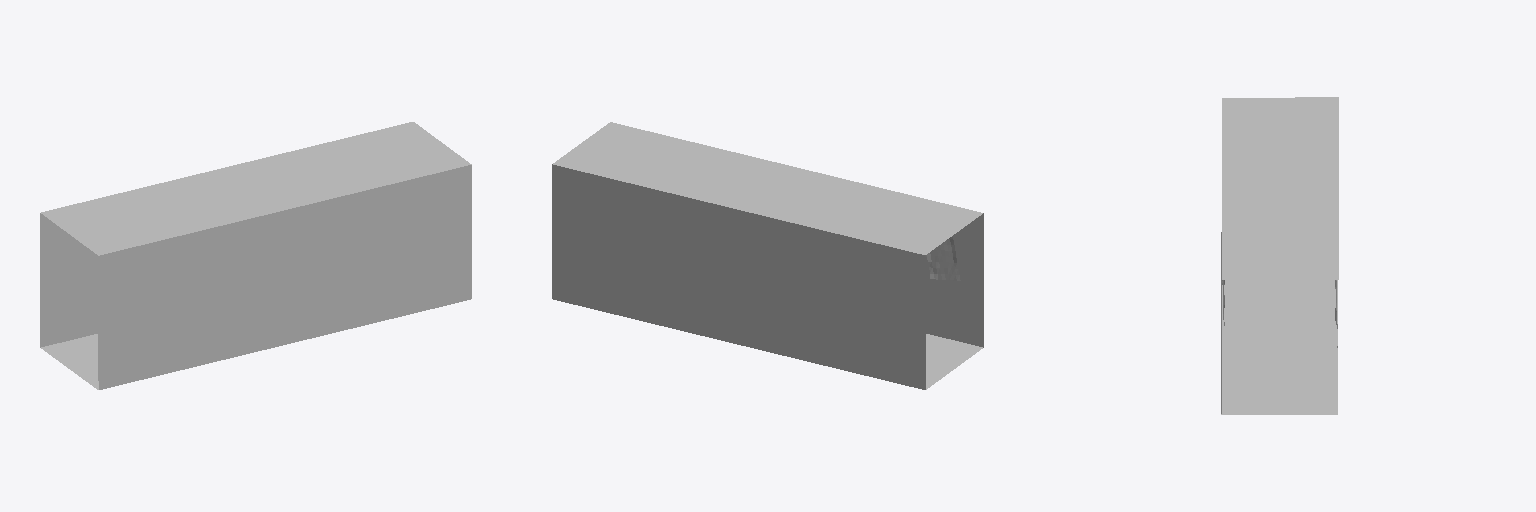
3 renders of one model, left to right at view 1: azimuth 30°, elevation 25°; view 2: azimuth 150°, elevation 25°; view 3: azimuth 270°, elevation 25°, orthographic.
Visible parts, largest first — view 1: Walls, FloorAndCeiling; view 2: Walls, FloorAndCeiling, AlleyPoster02; view 3: FloorAndCeiling.
Part boxes in pixels (x1,y1,x2,y2): Walls: (40,165,471,389); FloorAndCeiling: (41,122,471,389); Walls: (552,164,983,389); FloorAndCeiling: (553,122,982,389); AlleyPoster02: (927,237,960,280); FloorAndCeiling: (1221,97,1338,414).
Bounding box in the file's own units: 24.58 × 8.49 × 6.67.